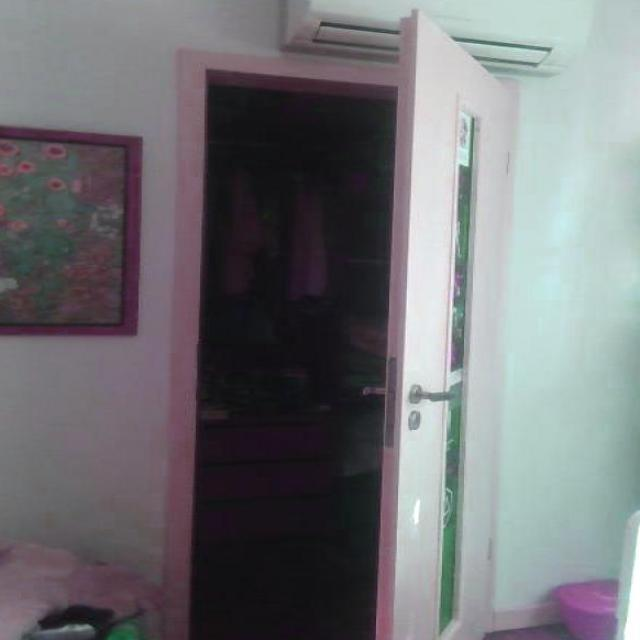door: (364, 1, 496, 640)
